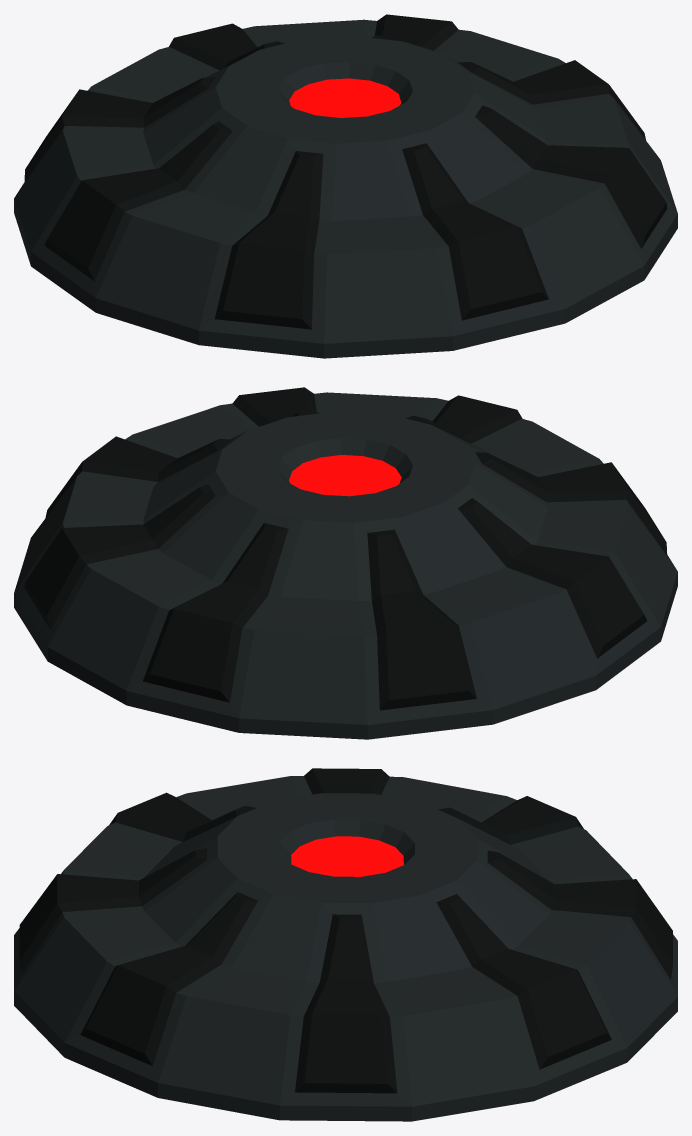
The model's file is Mine.FBX.
3 renders of one model, top to bottom at view 1: azimuth 30°, elevation 25°; view 2: azimuth 150°, elevation 25°; view 3: azimuth 270°, elevation 25°, orthographic.
Parts seen in each view (by area): view 1: Mine; view 2: Mine; view 3: Mine.
Boxes of the visible parts, bbox=[...] form: Mine: bbox=[14, 14, 677, 358]; Mine: bbox=[14, 387, 677, 739]; Mine: bbox=[14, 768, 677, 1121].
Bounding box in the file's own units: 26.68 × 26.69 × 6.06.
